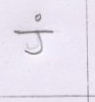anusvara: (35, 15, 41, 21)
